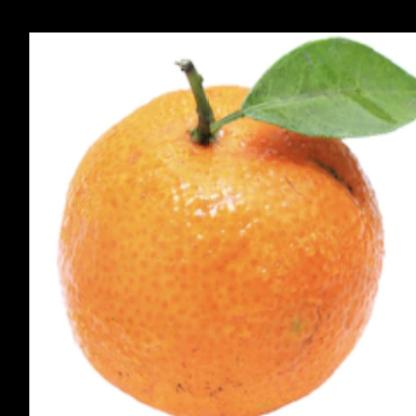fresh: (61, 93, 384, 416)
